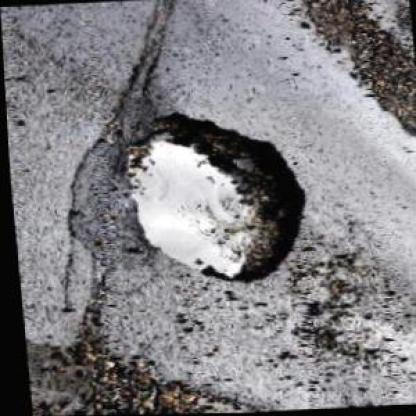pothole: (118, 104, 316, 294)
